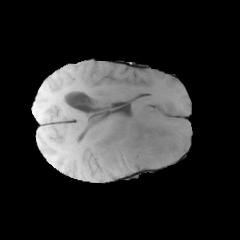glioma: (90, 97, 189, 172)
